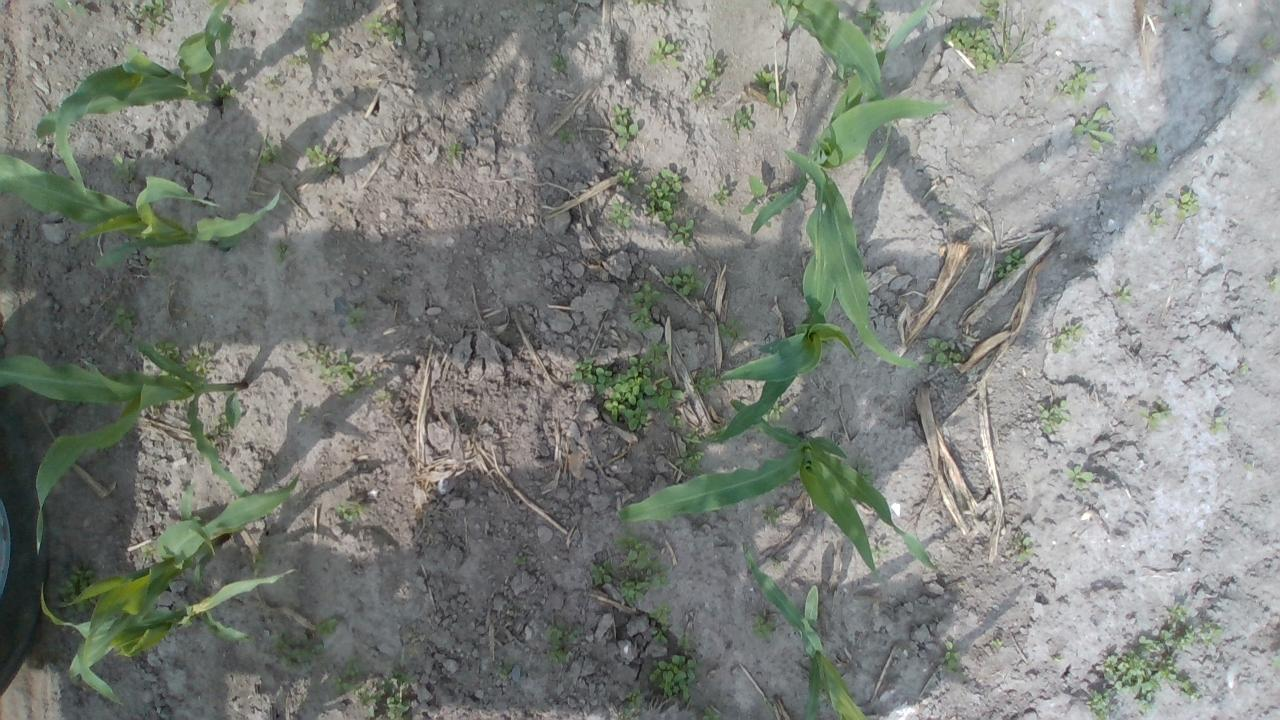Maize: (749, 0, 960, 368), (618, 400, 943, 586), (64, 470, 300, 708), (0, 334, 257, 548), (691, 148, 856, 446), (34, 0, 236, 194), (0, 151, 282, 267), (39, 565, 294, 683), (741, 537, 875, 720), (779, 0, 896, 190)
Weeds: (1103, 603, 1225, 714), (568, 341, 686, 431), (590, 528, 669, 606), (944, 20, 1028, 76), (295, 335, 359, 399), (54, 555, 102, 619), (356, 671, 416, 720), (264, 626, 325, 673), (649, 654, 700, 702), (642, 168, 684, 222), (740, 176, 784, 227), (849, 0, 890, 48), (1070, 108, 1114, 150), (1052, 62, 1094, 102), (543, 621, 581, 664), (627, 282, 658, 333), (672, 427, 706, 473), (922, 337, 964, 370), (754, 70, 790, 108), (664, 266, 706, 297), (330, 655, 364, 693), (610, 104, 638, 150), (362, 13, 406, 42), (136, 0, 174, 33), (1036, 400, 1072, 434), (646, 37, 684, 69), (304, 143, 343, 173), (720, 105, 754, 139), (1166, 190, 1202, 222), (688, 366, 724, 396), (1051, 321, 1082, 354), (648, 604, 672, 646), (992, 248, 1025, 278), (1141, 397, 1171, 429), (183, 346, 212, 379), (258, 135, 286, 167), (150, 336, 182, 364), (666, 219, 696, 248), (618, 690, 646, 720), (110, 155, 138, 184), (111, 302, 138, 332), (751, 612, 778, 642), (608, 199, 634, 230), (211, 79, 239, 107), (758, 397, 786, 425), (941, 640, 964, 674), (717, 316, 746, 342), (1086, 691, 1112, 720), (688, 78, 718, 103), (832, 63, 854, 97), (1010, 532, 1034, 563), (52, 0, 88, 19), (304, 28, 330, 54), (1066, 465, 1094, 489), (334, 499, 364, 521), (1130, 141, 1158, 164), (247, 554, 276, 576), (144, 247, 168, 272), (314, 618, 340, 640), (978, 0, 1002, 22), (675, 627, 696, 652), (703, 56, 723, 82), (272, 240, 293, 264), (345, 306, 366, 330), (1145, 210, 1166, 234), (856, 458, 874, 486), (616, 168, 638, 190), (359, 369, 384, 388), (446, 140, 464, 166), (556, 125, 578, 146), (709, 183, 728, 205), (548, 53, 568, 73), (1115, 284, 1135, 304), (869, 540, 889, 559), (1208, 416, 1228, 435), (1259, 85, 1279, 104), (1261, 32, 1280, 52), (210, 414, 231, 432), (762, 505, 780, 526), (702, 706, 722, 720), (263, 75, 280, 91), (1244, 62, 1262, 77), (157, 369, 181, 380), (1172, 2, 1192, 15), (630, 0, 666, 7), (494, 662, 512, 676), (1267, 274, 1280, 293), (140, 545, 156, 560), (286, 54, 310, 64), (708, 422, 728, 434), (770, 556, 784, 572), (760, 696, 776, 710), (513, 552, 527, 565), (1043, 20, 1056, 34), (373, 391, 393, 400), (989, 637, 1003, 649), (1238, 360, 1249, 375), (1272, 651, 1280, 669), (940, 208, 953, 216), (238, 0, 251, 7), (1244, 462, 1254, 471), (769, 0, 779, 9), (208, 0, 220, 7)
